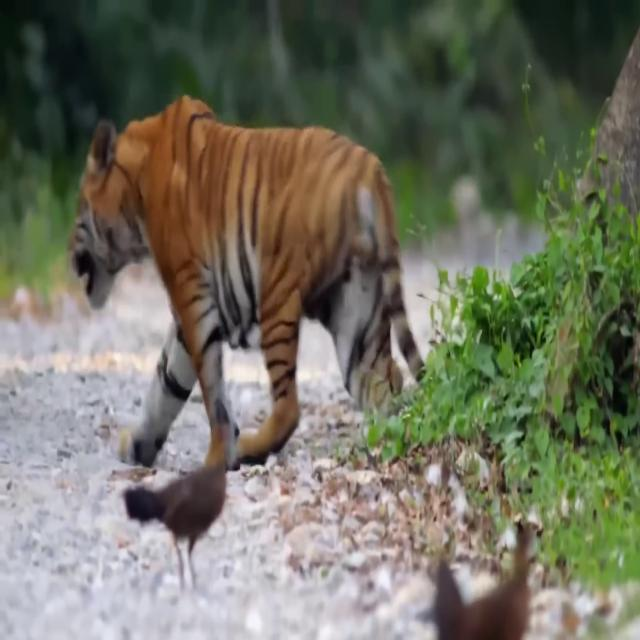tiger: (67, 97, 430, 466)
